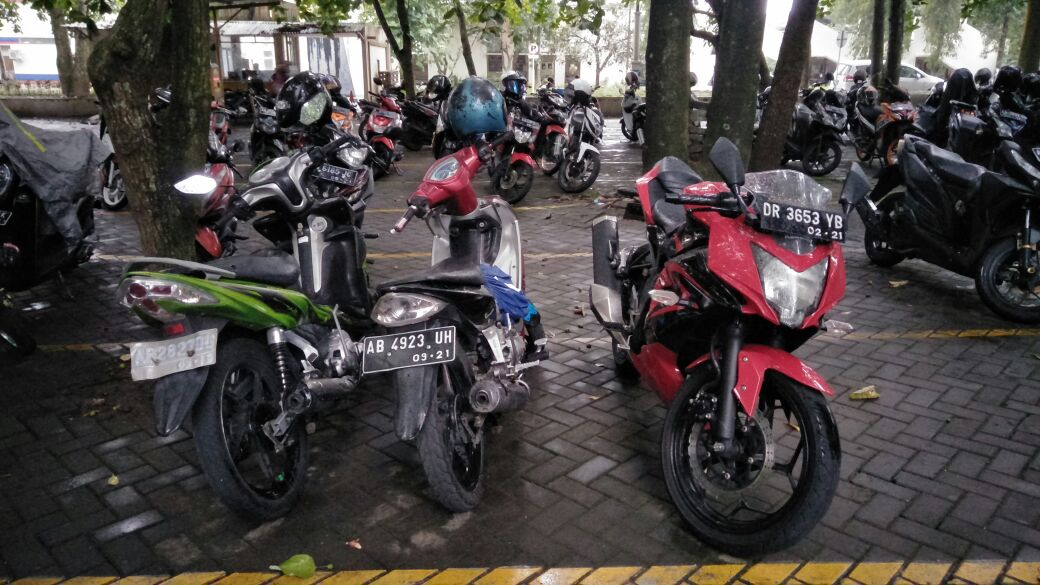plate: (759, 198, 847, 242), (362, 328, 456, 369), (130, 331, 218, 372)
